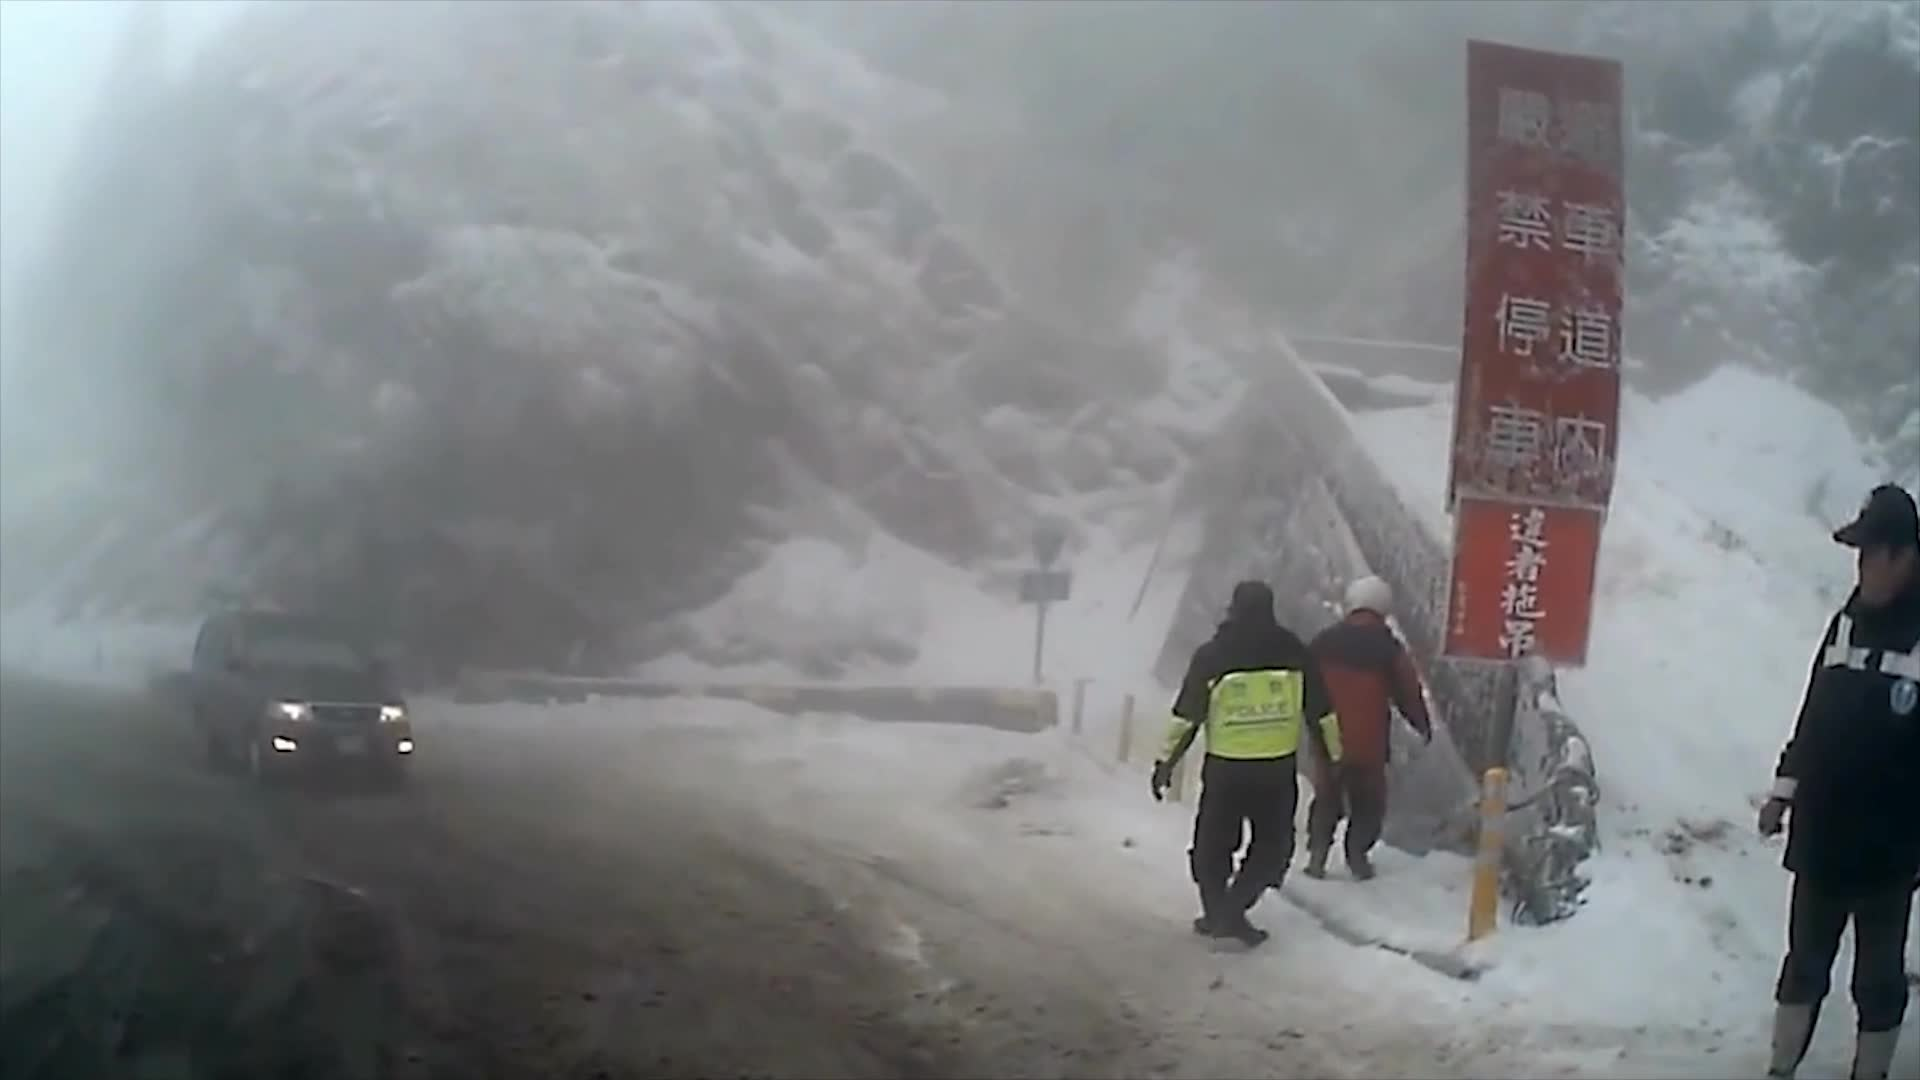pedestrian: (1757, 479, 1920, 1080), (1160, 585, 1360, 952), (1309, 577, 1436, 881)
vehicle: (185, 607, 417, 793)
